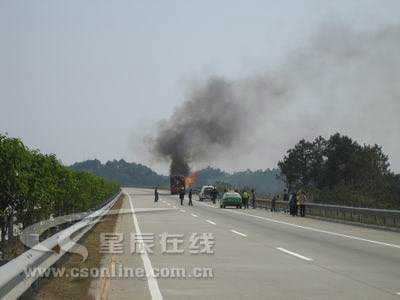fire: (182, 172, 197, 186)
